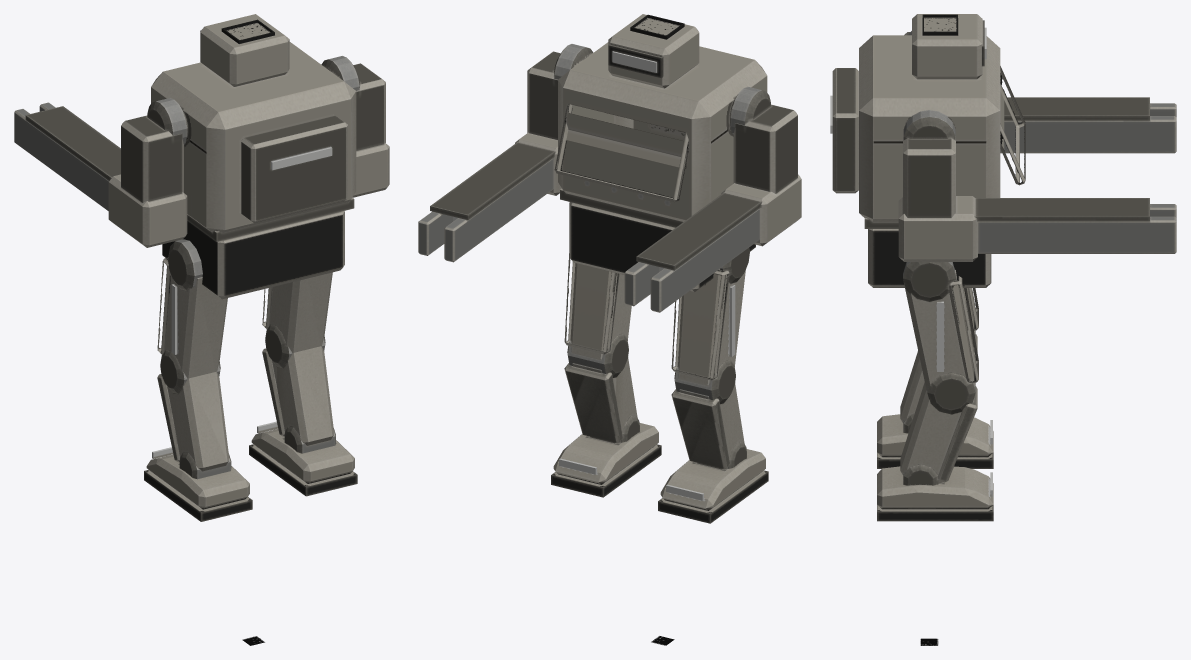
The model's file is ord_marshal.fbx.
The picture shows the model from 3 angles, left to right: view 1: azimuth 30°, elevation 25°; view 2: azimuth 150°, elevation 25°; view 3: azimuth 270°, elevation 25°; orthographic projection. The views are drawn at different scales.
Visible parts, largest first — view 1: torso_bar, base_bar, thighL_bar, shinL_bar, shinR_bar, thighR_bar, footR_bar, footL_bar, torso_glow_power_bar; view 2: torso_bar, thighL_bar, thighR_bar, base_bar, footL_bar, footR_bar, shinR_bar, shinL_bar; view 3: torso_bar, thighR_bar, footR_bar, shinR_bar, base_bar, footL_bar, shinL_bar, thighR_glow_running_bar.
Boxes of the visible parts, x1=… form: torso_bar: x1=14, y1=14, x2=389, y2=247; base_bar: x1=162, y1=211, x2=344, y2=299; thighL_bar: x1=157, y1=239, x2=227, y2=393; shinL_bar: x1=157, y1=371, x2=231, y2=479; shinR_bar: x1=262, y1=346, x2=335, y2=453; thighR_bar: x1=262, y1=272, x2=332, y2=368; footR_bar: x1=249, y1=429, x2=357, y2=496; footL_bar: x1=144, y1=454, x2=252, y2=521; torso_glow_power_bar: x1=271, y1=147, x2=332, y2=170; torso_bar: x1=418, y1=14, x2=801, y2=312; thighL_bar: x1=671, y1=247, x2=749, y2=403; thighR_bar: x1=564, y1=253, x2=631, y2=377; base_bar: x1=569, y1=202, x2=755, y2=292; footL_bar: x1=658, y1=449, x2=768, y2=523; footR_bar: x1=551, y1=423, x2=661, y2=497; shinR_bar: x1=564, y1=357, x2=639, y2=443; shinL_bar: x1=671, y1=383, x2=746, y2=469; torso_bar: x1=832, y1=14, x2=1176, y2=261; thighR_bar: x1=903, y1=262, x2=978, y2=414; footR_bar: x1=877, y1=466, x2=993, y2=521; shinR_bar: x1=900, y1=382, x2=977, y2=485; base_bar: x1=868, y1=229, x2=991, y2=287; footL_bar: x1=877, y1=414, x2=993, y2=468; shinL_bar: x1=900, y1=334, x2=977, y2=433; thighR_glow_running_bar: x1=937, y1=301, x2=943, y2=371.
Bounding box in the file's own units: 330 × 774 × 392.
Materials: 2 (2 with a texture image).
